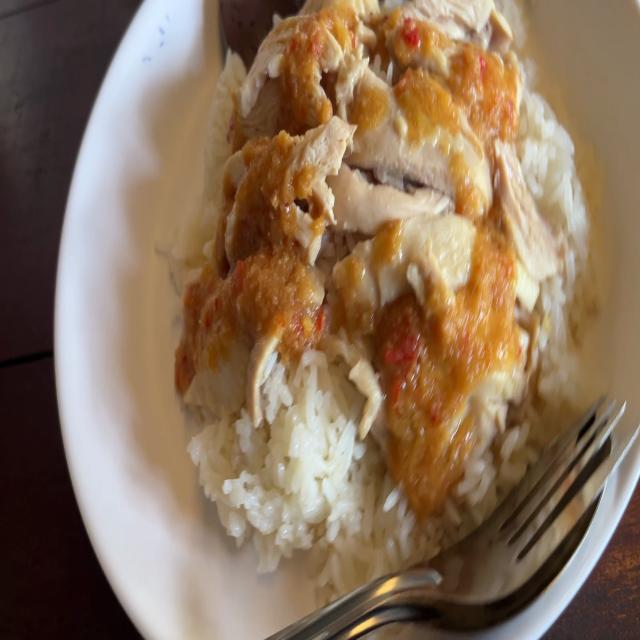boiled_chicken: (221, 4, 520, 445)
chicken_rice: (140, 0, 615, 567)
